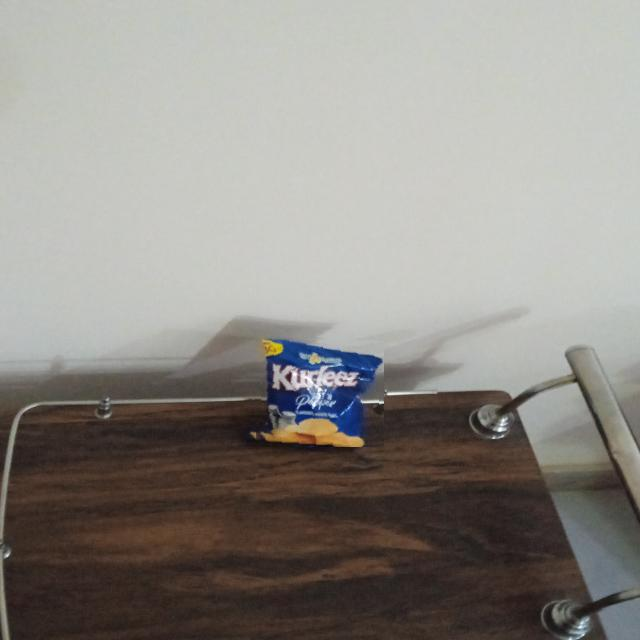Plastic: (246, 333, 384, 447)
